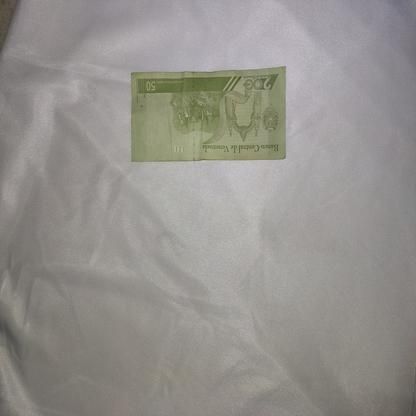fifty-back-vef: (130, 66, 288, 162)
